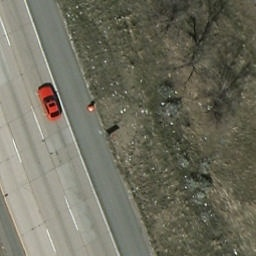car: (35, 83, 64, 122)
